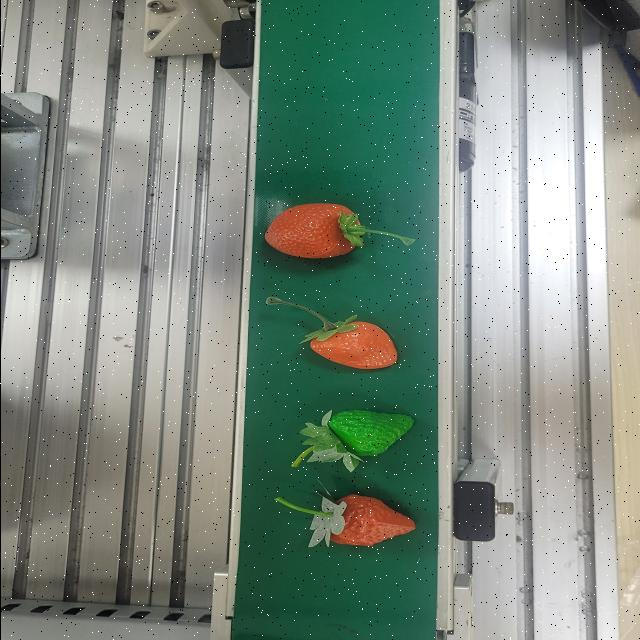Large Ripe Strawberry: (260, 201, 418, 261)
Small Ripe Strawberry: (286, 498, 421, 552), (298, 314, 396, 374)
Small Unripe Strawberry: (300, 408, 418, 471)
